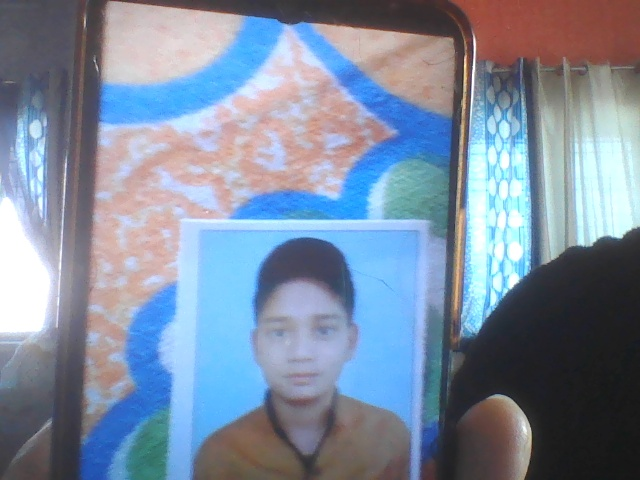fake: (240, 229, 379, 426)
